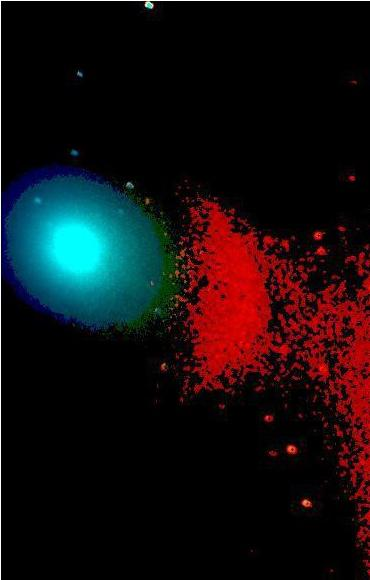star: (130, 183, 160, 213)
